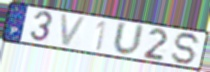1: (95, 21, 107, 52)
2: (143, 27, 171, 63)
3: (28, 10, 54, 44)
S: (170, 32, 203, 66)
U: (111, 20, 146, 57)
V: (59, 12, 89, 48)
